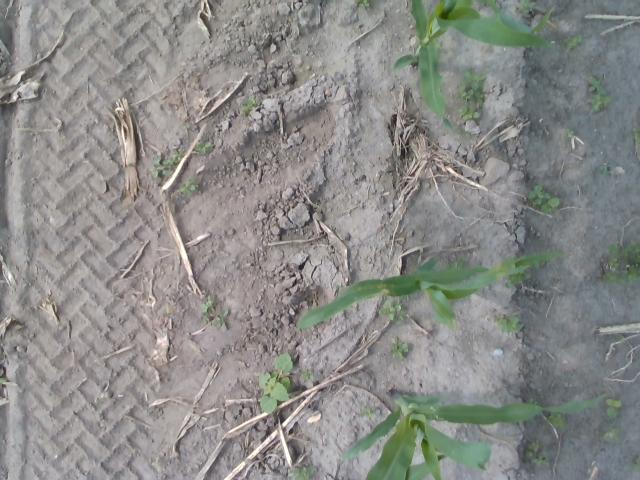Maize: (335, 390, 606, 480), (393, 0, 554, 133), (297, 252, 563, 331)
Weeds: (258, 353, 294, 414), (600, 241, 640, 282), (459, 70, 487, 103), (150, 155, 174, 178), (379, 299, 402, 322), (496, 314, 524, 332), (290, 465, 320, 479), (390, 336, 408, 359), (606, 396, 623, 420), (528, 184, 547, 204), (588, 96, 610, 113), (588, 75, 605, 95), (215, 311, 230, 331), (516, 0, 536, 15), (564, 36, 585, 50), (461, 106, 480, 120), (183, 180, 199, 196), (541, 197, 559, 211), (546, 412, 564, 426), (358, 406, 379, 418), (173, 148, 186, 164), (602, 427, 619, 439), (597, 162, 614, 174), (202, 298, 216, 312), (526, 442, 538, 458), (243, 98, 256, 112), (302, 370, 314, 382), (532, 455, 544, 466), (200, 141, 210, 154), (630, 125, 640, 137), (635, 457, 640, 472), (358, 0, 370, 6), (205, 317, 212, 326), (567, 130, 573, 136)
